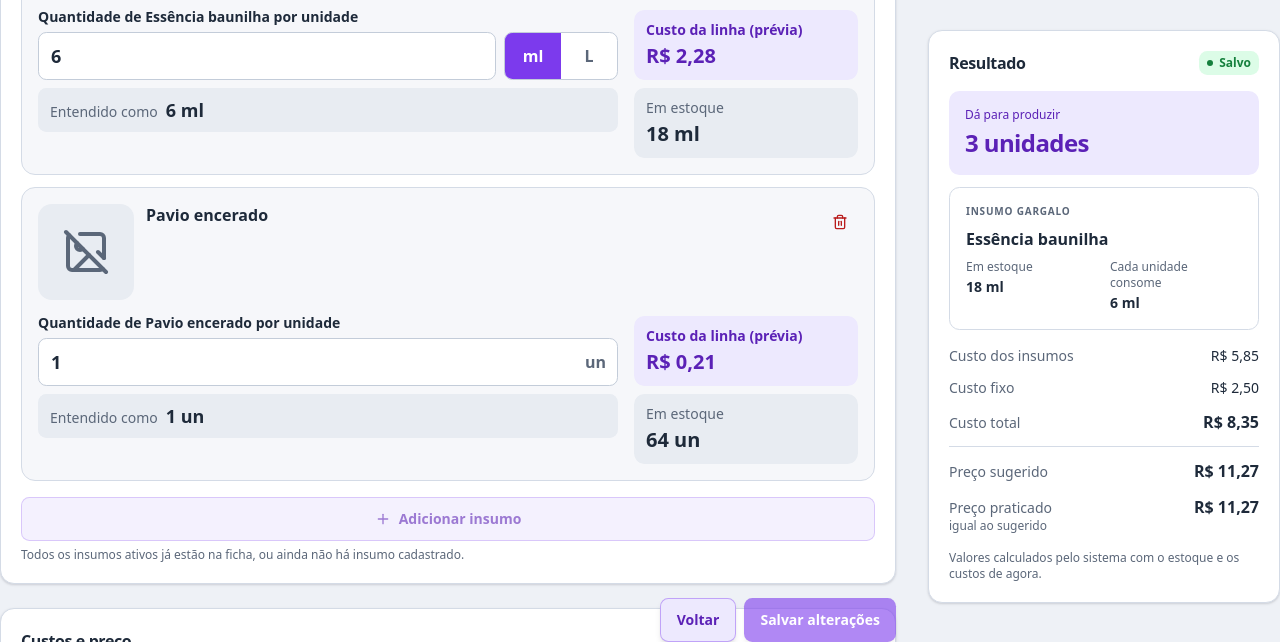
Test: the bill of materials › removes a line, and the material comes back to the picker
The width and height of the screenshot is (1280, 642).
(page scrolled)
Click the button named "Remover Pavio encerado da ficha" at x=840, y=222, box [818,200,862,244]
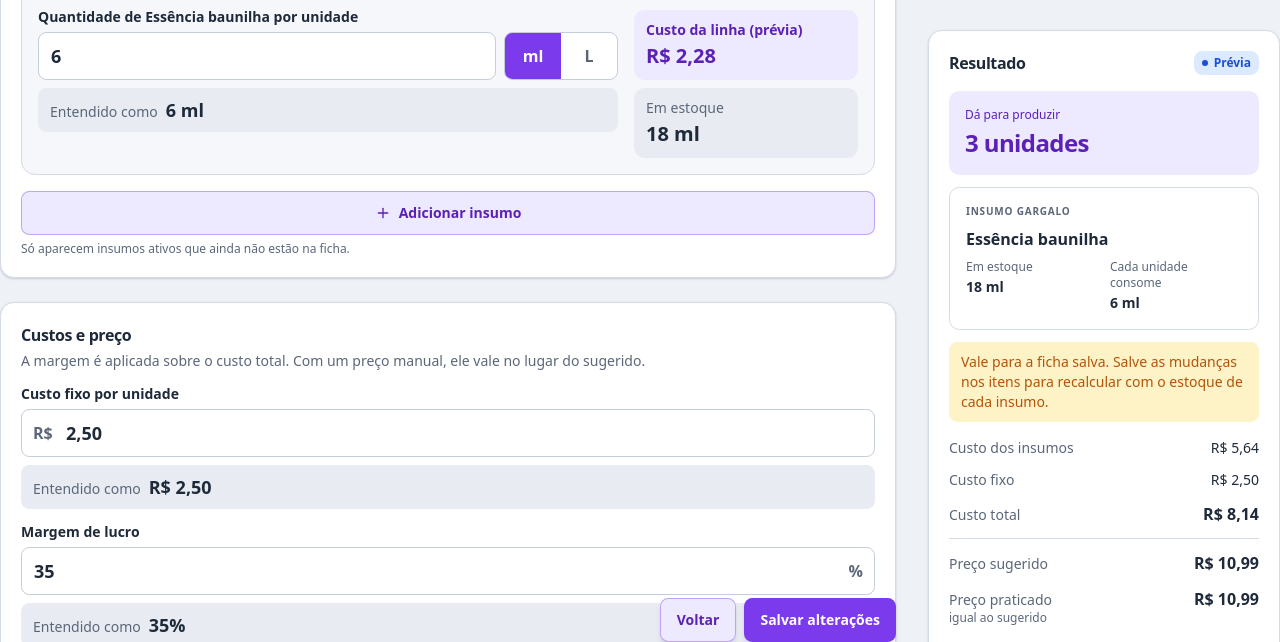
Check: the label labelled "Quantidade de Pavio encerado por unidade" is gone
Click the button "Adicionar insumo" at x=448, y=213, box [21,191,875,235]
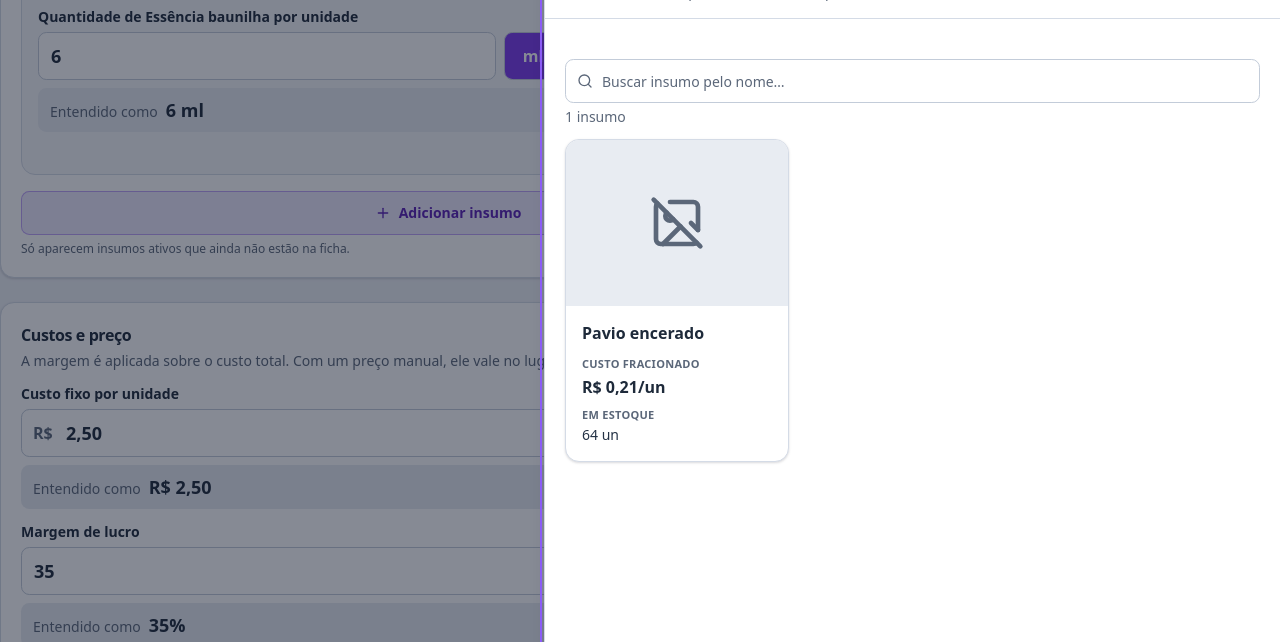
Check: the button "Pavio encerado" is shown, box [582,322,772,344]
